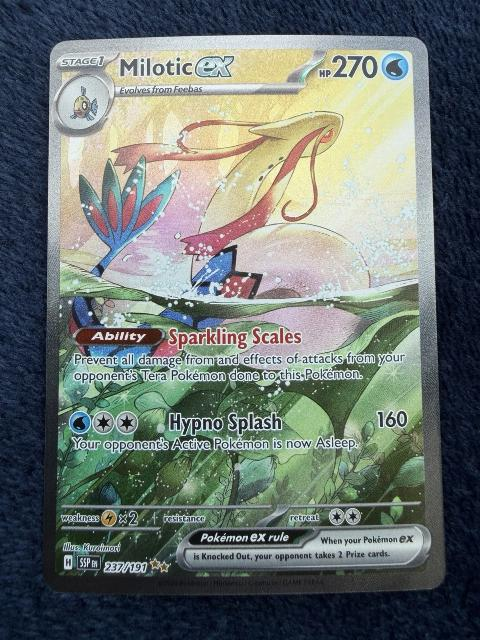Card: (40, 33, 450, 598)
Name: (117, 54, 242, 79)
